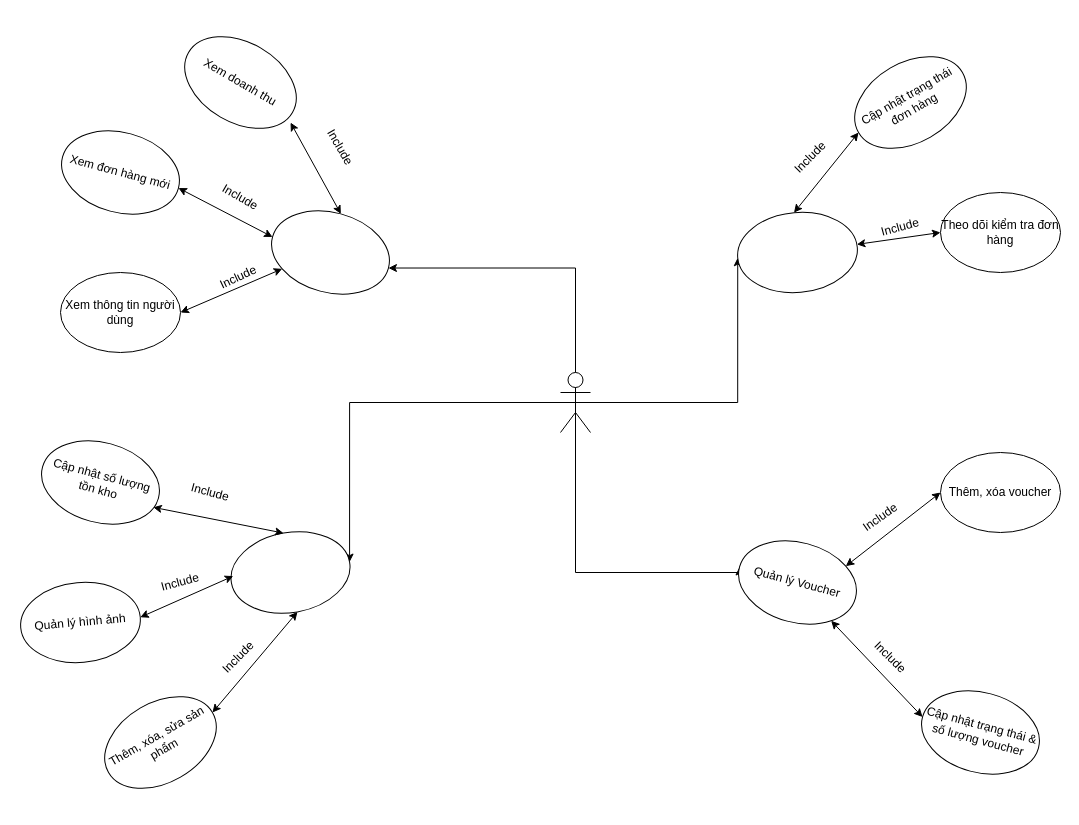
Some shapes in this 1079 by 825 pixel diagram are drawn without their labels. Each missing label, with the box of its shape:
Admin: (560, 372, 590, 432)
Quản lý sản phẩm: (223, 522, 357, 622)
Quản lý đơn hàng: (733, 206, 861, 298)
Xem Dashboard: (261, 197, 399, 307)
